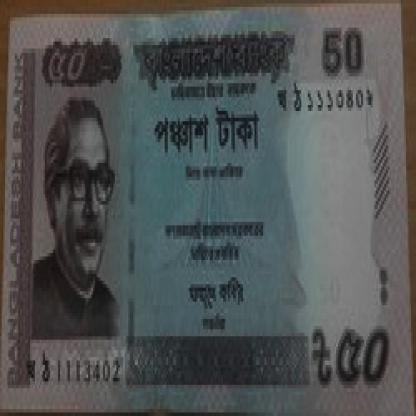Fifty taka: (315, 319, 401, 392), (38, 45, 103, 101)
